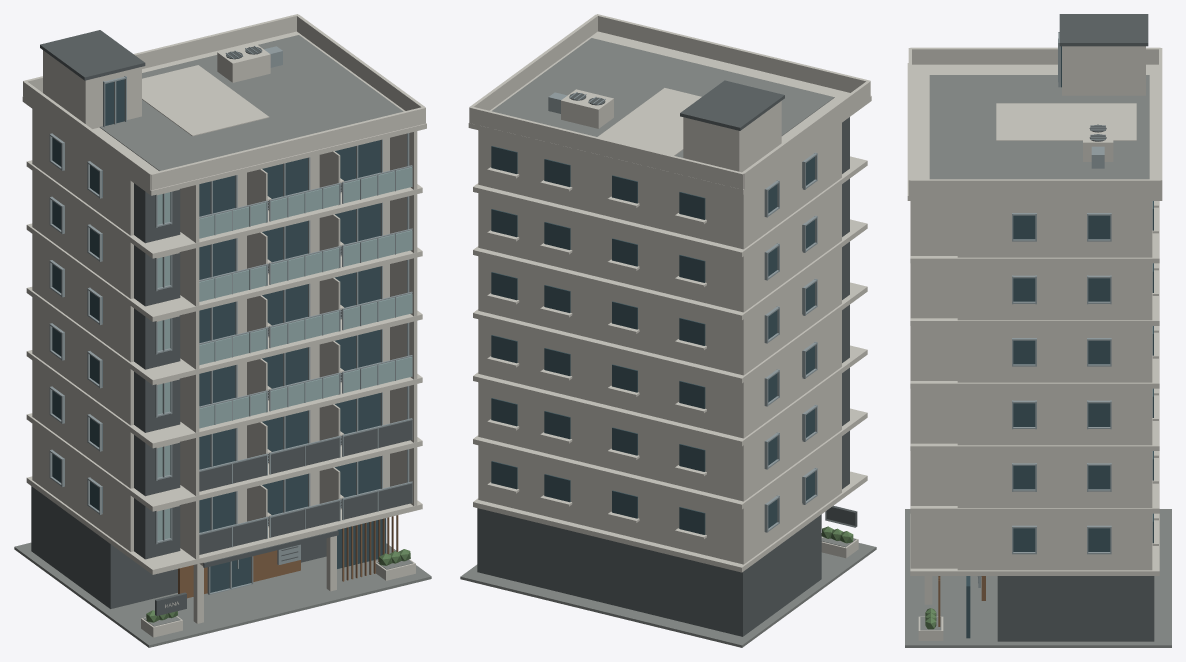
File: sakura-residential.glb
The picture shows the model from 3 angles, left to right: view 1: azimuth 30°, elevation 25°; view 2: azimuth 150°, elevation 25°; view 3: azimuth 270°, elevation 25°; orthographic projection.
Visible parts, largest first — view 1: sakura-residential_mineral_plaster, sakura-residential_charcoal_tile, sakura-residential_deep_glazing, sakura-residential_roof_membrane, sakura-residential_frosted_glazing, sakura-residential_silver_metal, sakura-residential_warm_wood, sakura-residential_planted_green; view 2: sakura-residential_mineral_plaster, sakura-residential_charcoal_tile, sakura-residential_deep_glazing, sakura-residential_roof_membrane, sakura-residential_silver_metal; view 3: sakura-residential_mineral_plaster, sakura-residential_roof_membrane, sakura-residential_charcoal_tile, sakura-residential_deep_glazing, sakura-residential_silver_metal.
Part boxes in pixels (box(x1,y1,x2,y2)): sakura-residential_mineral_plaster: box(22, 14, 426, 637); sakura-residential_charcoal_tile: box(31, 30, 412, 615); sakura-residential_deep_glazing: box(52, 79, 386, 592); sakura-residential_roof_membrane: box(14, 35, 431, 647); sakura-residential_frosted_glazing: box(157, 167, 412, 540); sakura-residential_silver_metal: box(49, 46, 412, 594); sakura-residential_warm_wood: box(178, 515, 398, 598); sakura-residential_planted_green: box(146, 549, 410, 622); sakura-residential_mineral_plaster: box(468, 14, 871, 572); sakura-residential_charcoal_tile: box(477, 80, 857, 636); sakura-residential_deep_glazing: box(491, 146, 814, 534); sakura-residential_roof_membrane: box(460, 38, 876, 647); sakura-residential_silver_metal: box(548, 92, 817, 532); sakura-residential_mineral_plaster: box(907, 46, 1162, 640); sakura-residential_roof_membrane: box(905, 75, 1171, 647); sakura-residential_charcoal_tile: box(978, 14, 1154, 641); sakura-residential_deep_glazing: box(966, 46, 1153, 638); sakura-residential_silver_metal: box(977, 32, 1111, 587).
Bounding box in the file's own units: 13.8 × 23.78 × 11.4.
